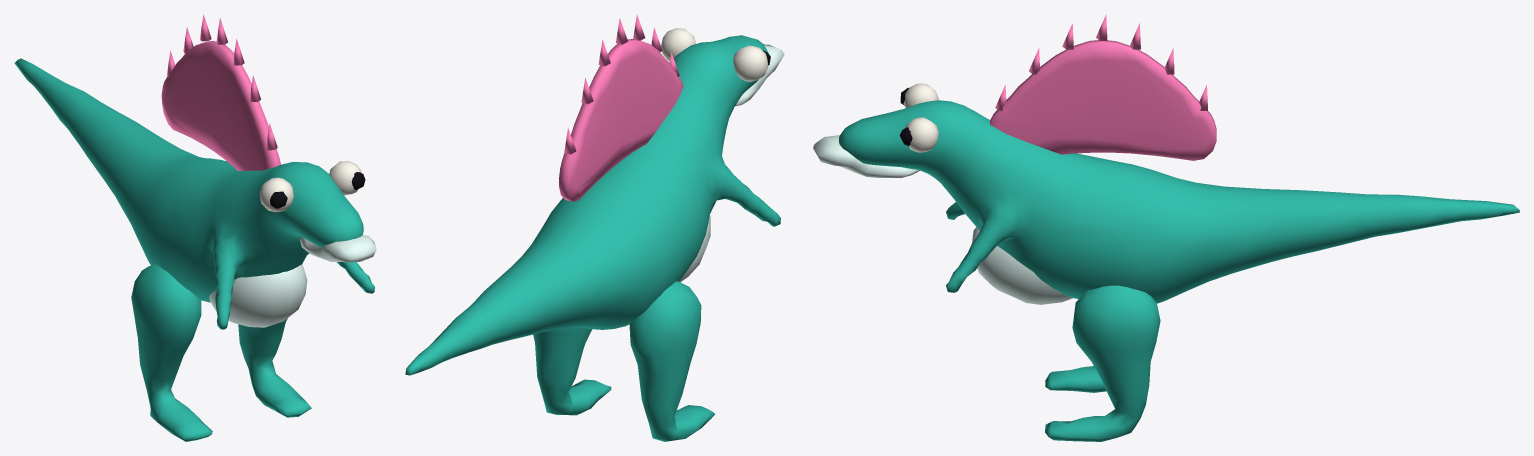
The model's file is Dino_Ouranosaurus.fbx.
3 renders of one model, left to right at view 1: azimuth 30°, elevation 25°; view 2: azimuth 150°, elevation 25°; view 3: azimuth 270°, elevation 25°, orthographic. The views are drawn at different scales.
Parts seen in each view (by area): view 1: Body, Accent, LegL, Belly, LegR, EyeWhite, Pupil; view 2: Body, Accent, LegL, LegR, EyeWhite, Belly; view 3: Body, Accent, LegR, Belly, EyeWhite, LegL.
Part boxes in pixels (left/top/right/bottom): Body: left=14, top=58, right=374, bottom=329; Accent: left=161, top=14, right=280, bottom=170; LegL: left=131, top=264, right=212, bottom=441; Belly: left=209, top=235, right=376, bottom=327; LegR: left=238, top=318, right=311, bottom=417; EyeWhite: left=259, top=161, right=361, bottom=212; Pupil: left=270, top=172, right=365, bottom=208; Body: left=405, top=35, right=780, bottom=375; Accent: left=559, top=15, right=683, bottom=201; LegL: left=629, top=281, right=714, bottom=441; LegR: left=533, top=327, right=611, bottom=415; EyeWhite: left=661, top=28, right=768, bottom=81; Belly: left=679, top=44, right=784, bottom=282; Body: left=839, top=100, right=1519, bottom=303; Accent: left=990, top=14, right=1216, bottom=160; LegR: left=1045, top=285, right=1160, bottom=441; Belly: left=813, top=135, right=1073, bottom=304; EyeWhite: left=903, top=83, right=938, bottom=152; LegL: left=1045, top=366, right=1106, bottom=392.
Bounding box in the file's own units: 1.98 × 4.81 × 7.72.
